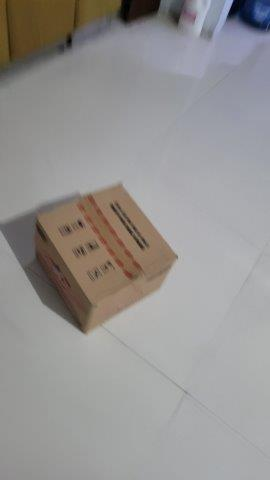kardus: (35, 183, 177, 336)
